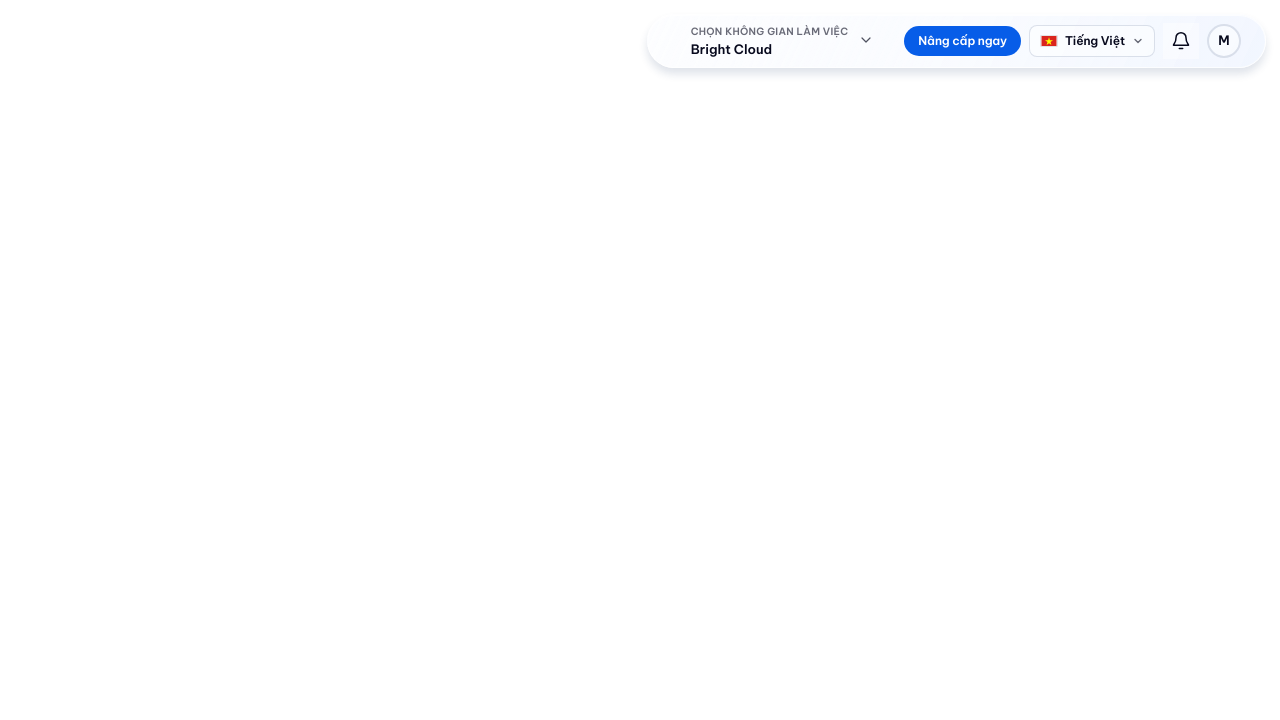
Test: workspace topbar notifications › renders the unified topbar with workspace switcher and opens the settings dialog
The image size is (1280, 720).
Expected: the text "Bright Cloud" is shown, [691,41,772,57]
Step 1. Click the button named "Menu người dùng" → click(1224, 41), box [1207,24,1241,58]
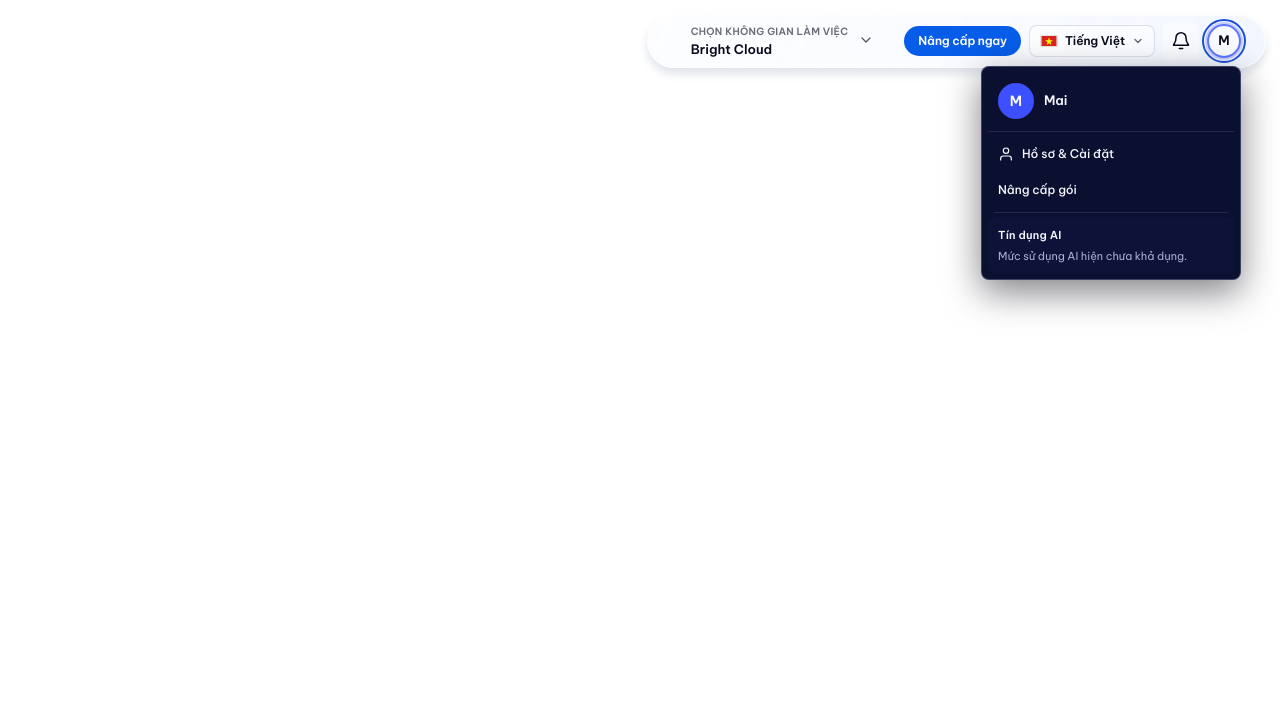
Step 2. Click the menu item "Hồ sơ & Cài đặt" → click(1111, 154), box [988,136,1234,172]
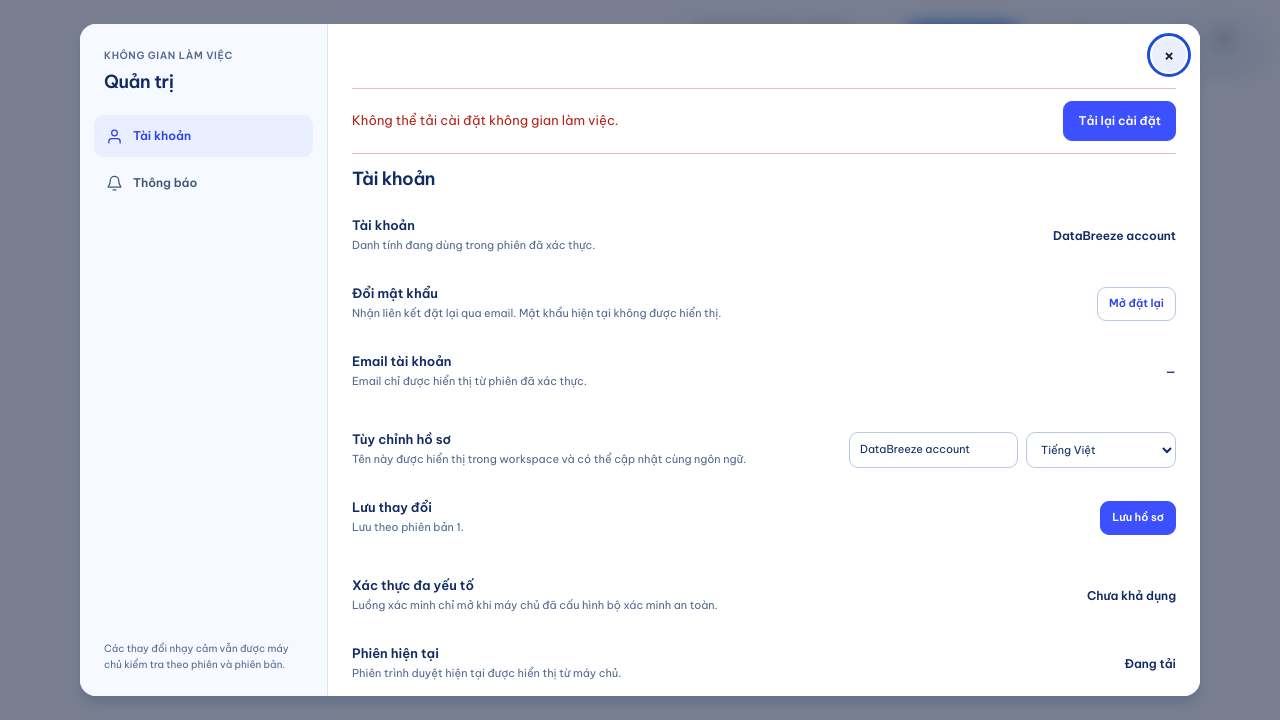
Result: the element that starts with "Không gian làm việc" is shown
Result: the button named "Đóng cài đặt" is shown at [1152,38,1186,72]
Result: the element named "Chủ đề quản trị" is shown at [94,115,313,204]
Step 3. Press Escape
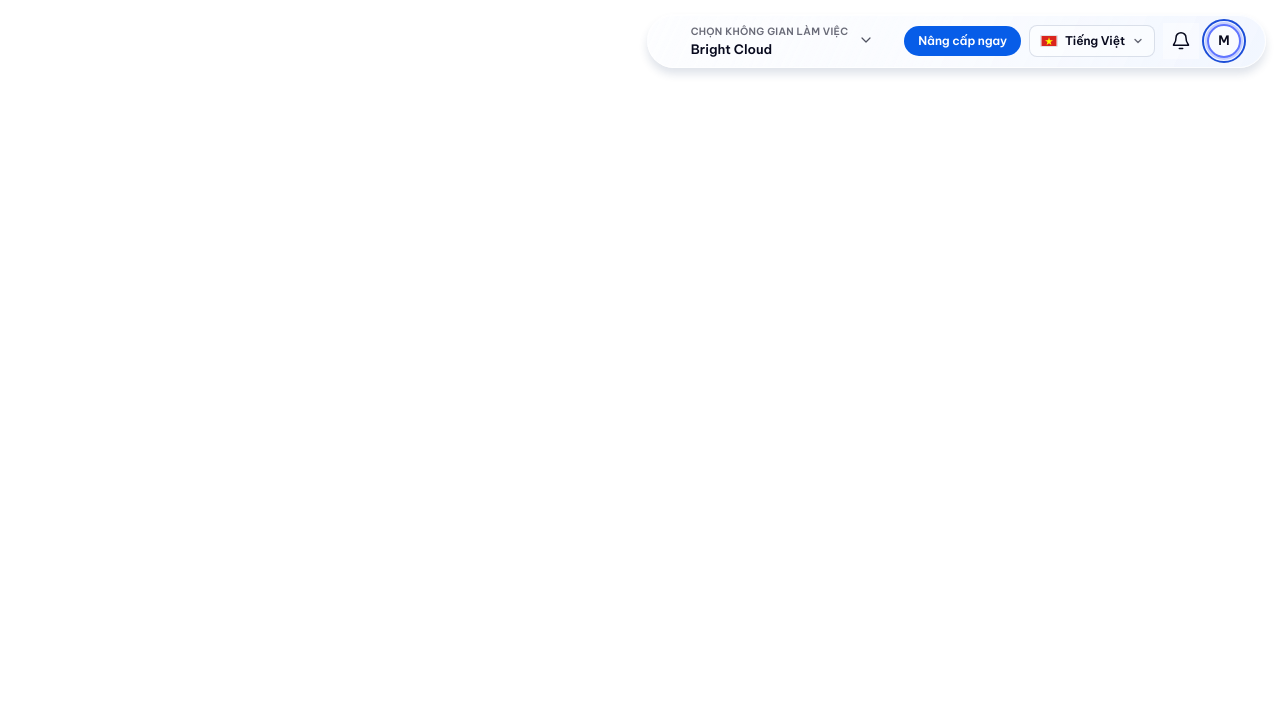
Result: the message "cài đặt không gian làm việc" is gone
